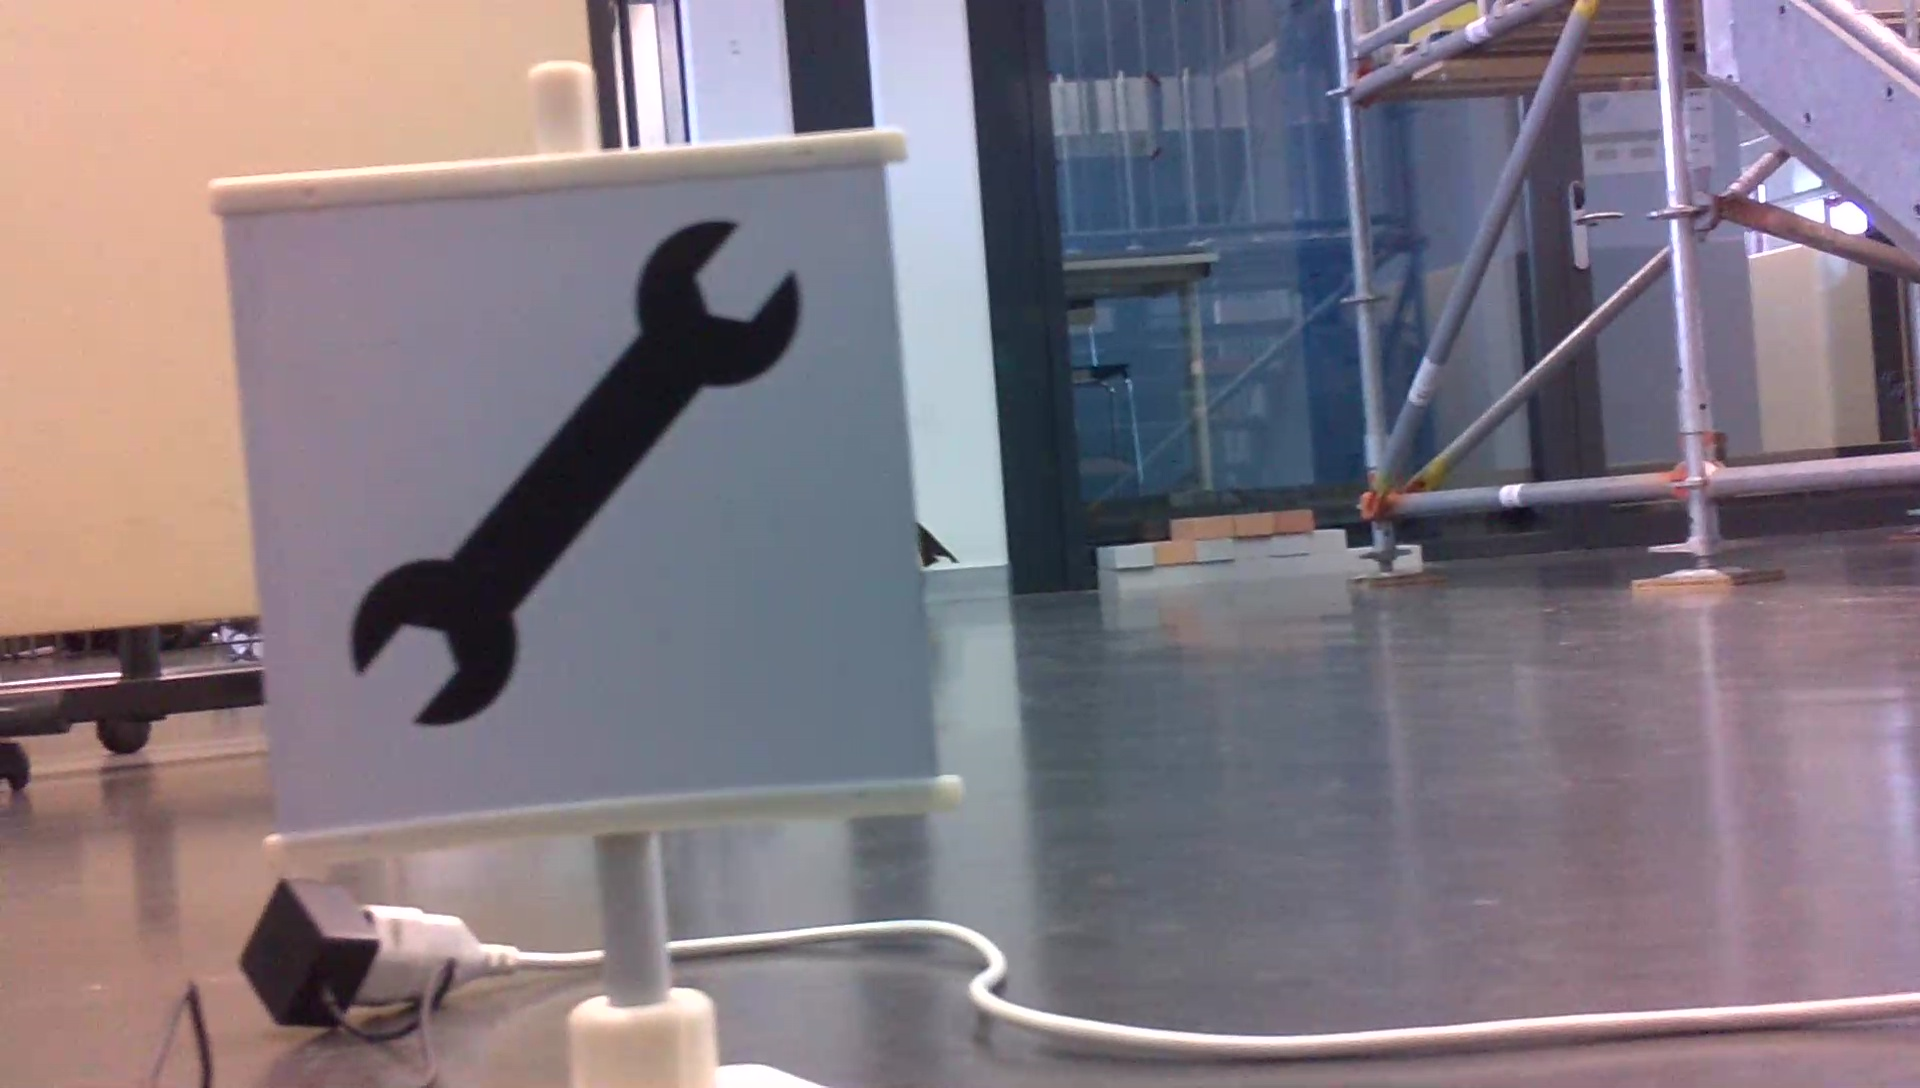wrench: (338, 208, 814, 740)
